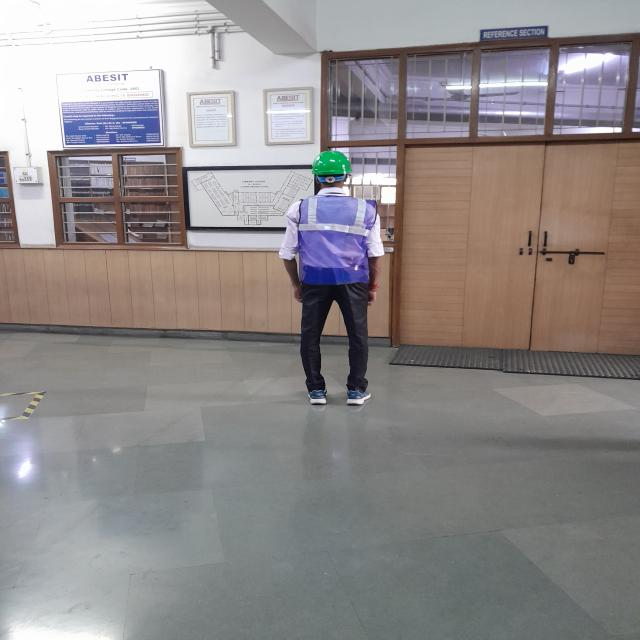safe: (276, 150, 387, 407)
